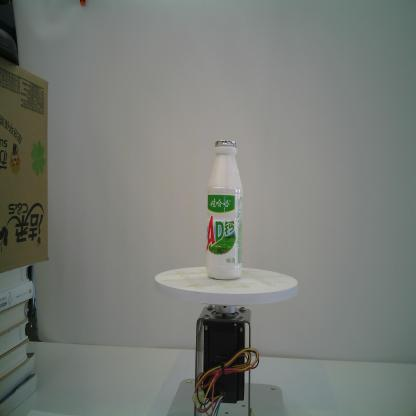Milk: (206, 139, 245, 281)
